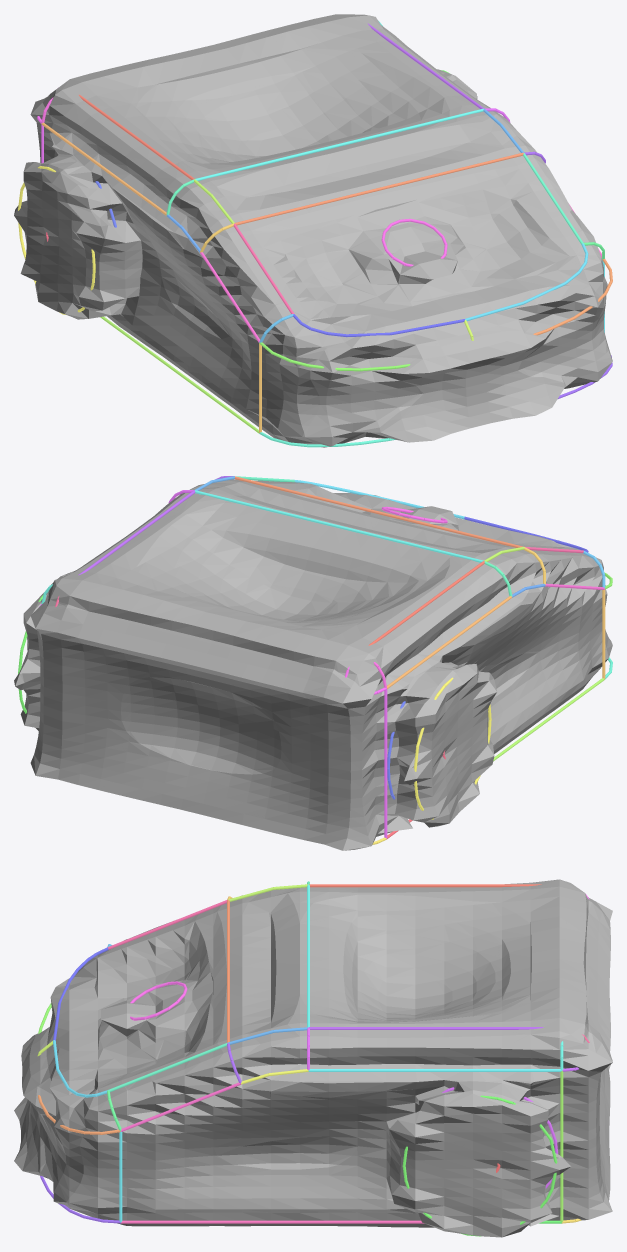
File: onshape_vacuum.gltf
3 views of the same model, one above another, from view 1: azimuth 30°, elevation 25°; view 2: azimuth 150°, elevation 25°; view 3: azimuth 270°, elevation 25° (orthographic).
Size of the model in its own units: 0.655 by 0.299 by 0.7972.
